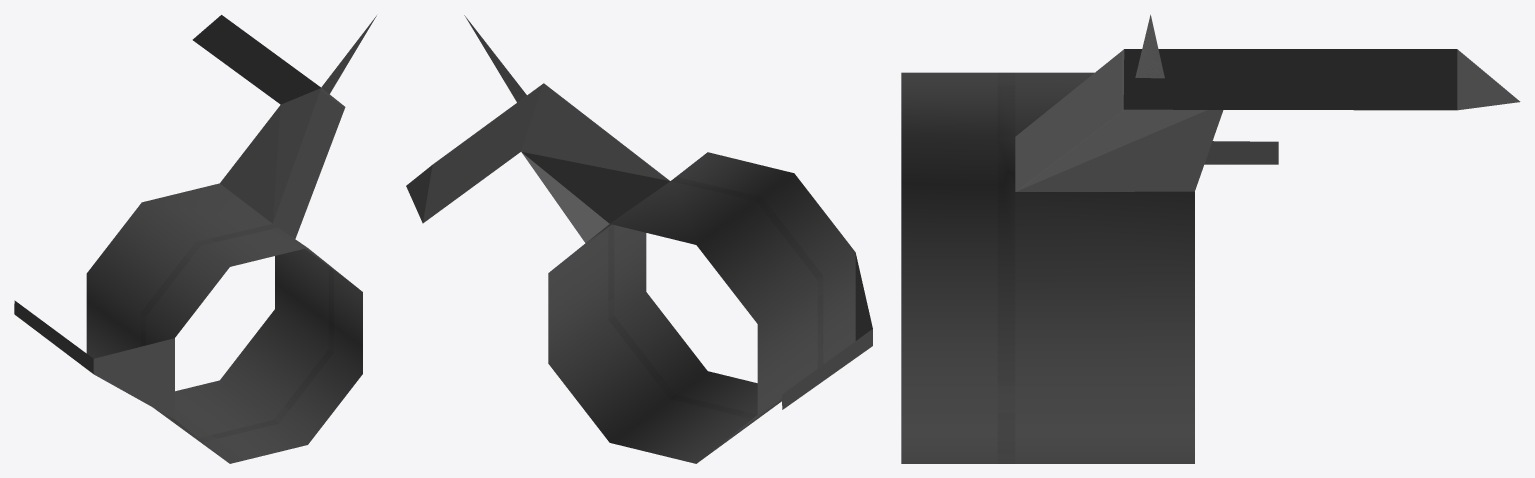
The model's file is stat_middle2.glb.
3 renders of one model, left to right at view 1: azimuth 30°, elevation 25°; view 2: azimuth 150°, elevation 25°; view 3: azimuth 270°, elevation 25°, orthographic. The views are drawn at different scales.
Visible parts, largest first — view 1: group_13; view 2: group_13; view 3: group_13.
Boxes of the visible parts, x1=… form: group_13: x1=14, y1=15, x2=376, y2=463; group_13: x1=406, y1=15, x2=872, y2=463; group_13: x1=901, y1=14, x2=1520, y2=463.
Size of the model in its own units: 13112 by 13092 by 12952.
1 material, 1 textured.
